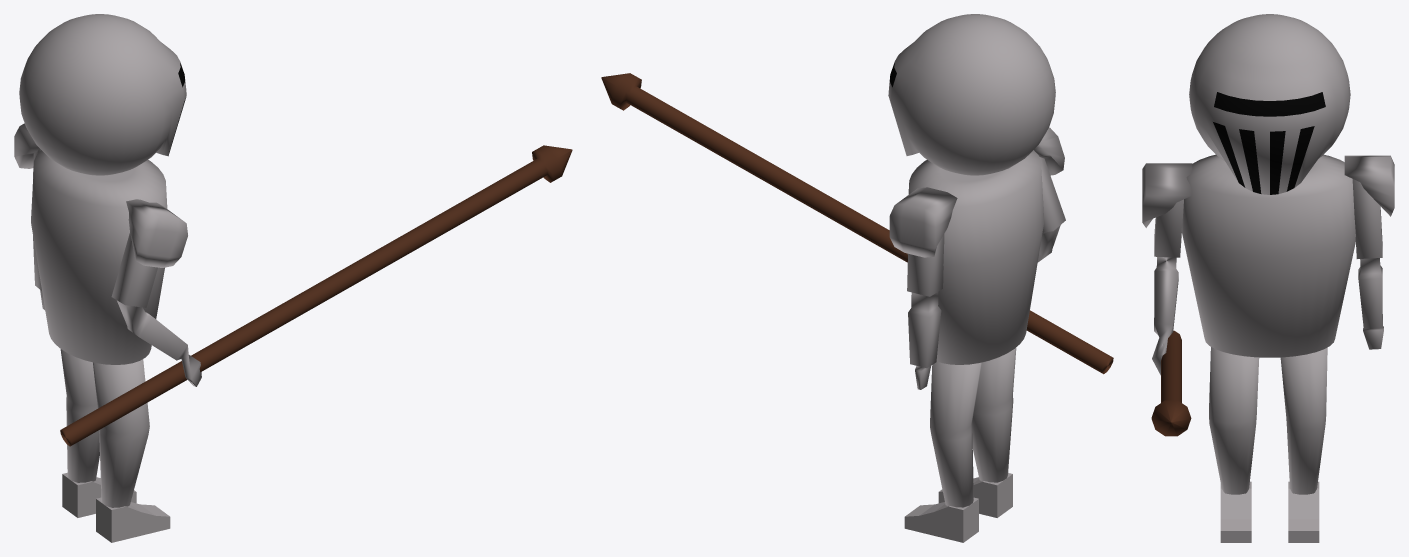
File: knightNew.fbx
The picture shows the model from 3 angles, left to right: view 1: azimuth 30°, elevation 25°; view 2: azimuth 150°, elevation 25°; view 3: azimuth 270°, elevation 25°; orthographic projection.
Parts seen in each view (by area): view 1: Sphere.001, Cylinder, Cylinder.002, Cube.000, Cube.002, Cube, Cube.003, Cube.004, Cube.001; view 2: Sphere.001, Cylinder, Cylinder.002, Cube.001, Cube, Cube.002, Cube.004, Cube.000, Cube.003; view 3: Cylinder, Sphere.001, Cube.002, Cube.001, Cube.000, Cube, Cylinder.002, Cube.004, Cube.003.
Boxes of the visible parts, bbox=[...] form: Sphere.001: bbox=[19, 14, 186, 175]; Cylinder: bbox=[31, 150, 167, 364]; Cylinder.002: bbox=[60, 145, 572, 446]; Cube.000: bbox=[111, 199, 201, 386]; Cube.002: bbox=[93, 359, 149, 507]; Cube: bbox=[60, 349, 99, 482]; Cube.003: bbox=[96, 497, 170, 542]; Cube.004: bbox=[62, 472, 136, 517]; Cube.001: bbox=[14, 123, 45, 310]; Sphere.001: bbox=[888, 14, 1055, 175]; Cylinder: bbox=[907, 150, 1043, 364]; Cylinder.002: bbox=[601, 73, 1113, 374]; Cube.001: bbox=[889, 187, 957, 389]; Cube: bbox=[930, 361, 981, 507]; Cube.002: bbox=[972, 347, 1016, 482]; Cube.004: bbox=[904, 497, 978, 542]; Cube.000: bbox=[1034, 127, 1065, 262]; Cube.003: bbox=[938, 473, 1012, 517]; Cylinder: bbox=[1181, 154, 1355, 357]; Sphere.001: bbox=[1189, 14, 1350, 194]; Cube.002: bbox=[1209, 347, 1259, 494]; Cube.001: bbox=[1344, 155, 1394, 349]; Cube.000: bbox=[1142, 163, 1192, 375]; Cube: bbox=[1280, 347, 1327, 494]; Cylinder.002: bbox=[1151, 330, 1191, 436]; Cube.004: bbox=[1288, 481, 1319, 542]; Cube.003: bbox=[1220, 481, 1251, 542].
Bounding box in the file's own units: 1182 × 1111 × 509.
